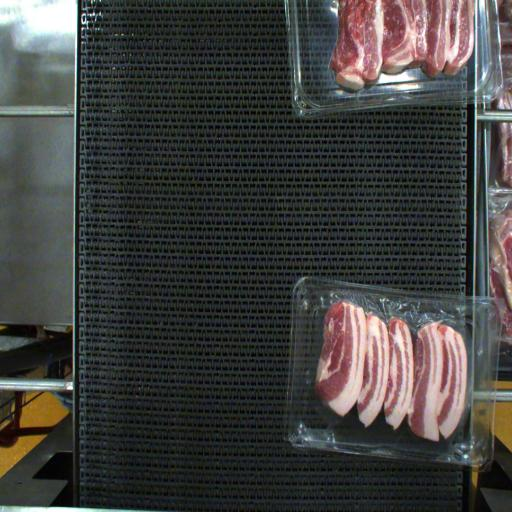unsealed: (308, 284, 496, 420)
